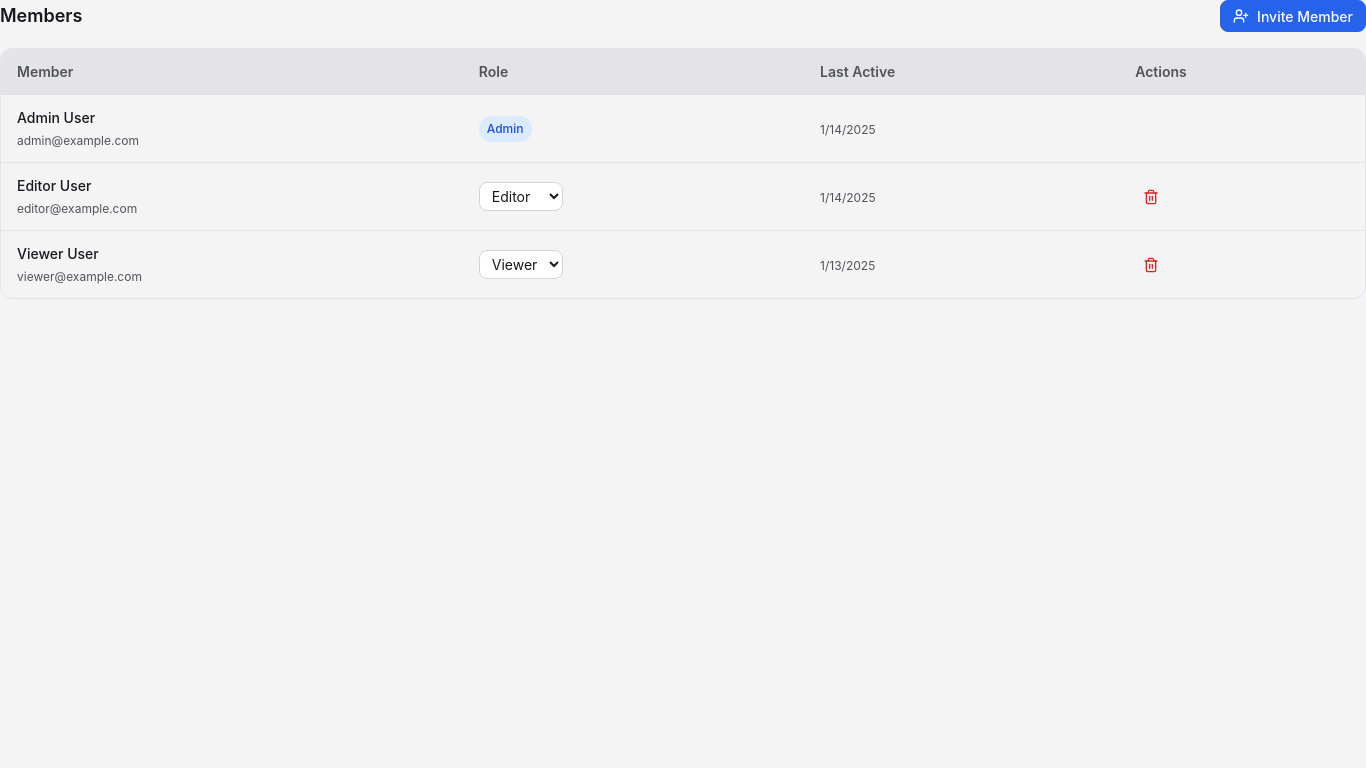
Test: MemberManagement Component › opens invite modal when clicking invite button
This screenshot has width=1366, height=768.
Click the button "Invite Member".
click(1293, 16)  # box [1220,0,1365,32]
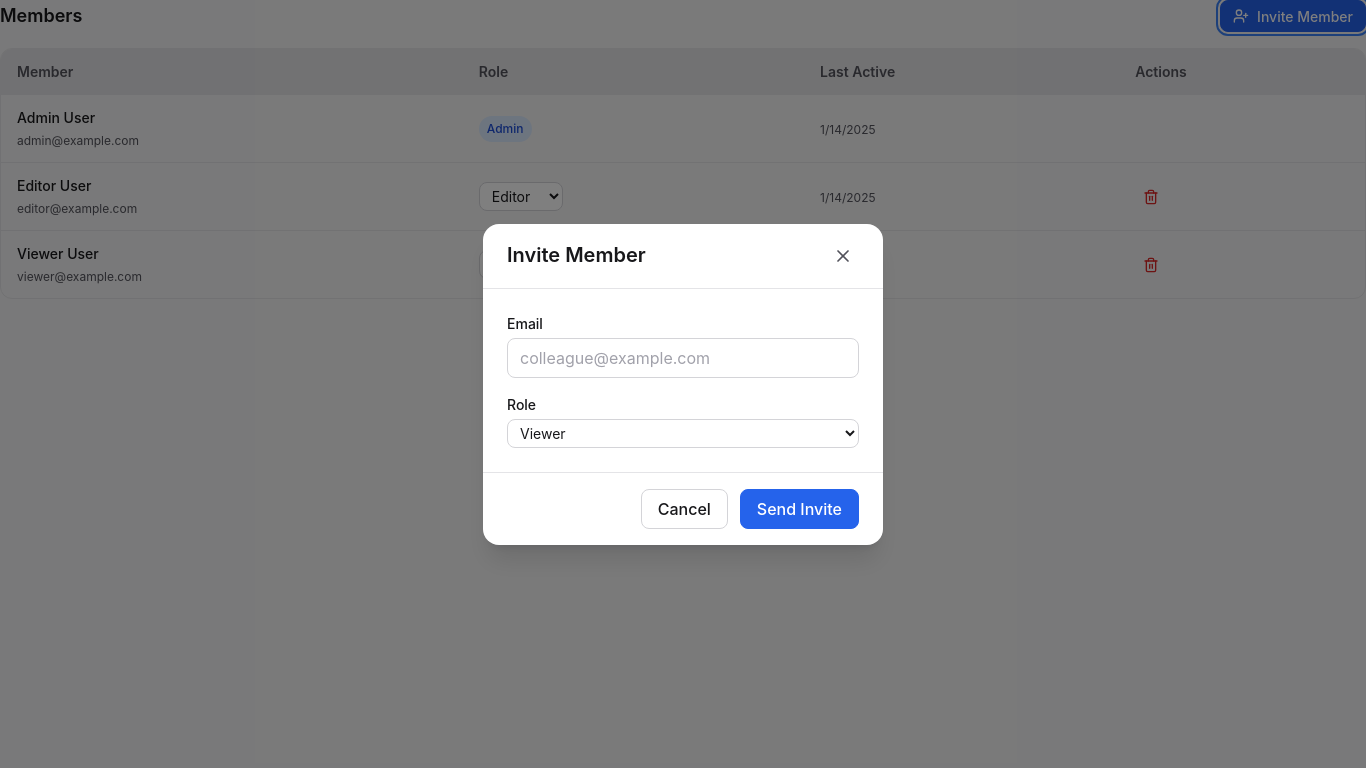
Expected: the dialog is shown, [483,224,883,544]
Expected: the field labelled "Email" is shown, [507,338,859,378]
Expected: the dropdown with id "invite-role" is shown, [507,418,859,448]
